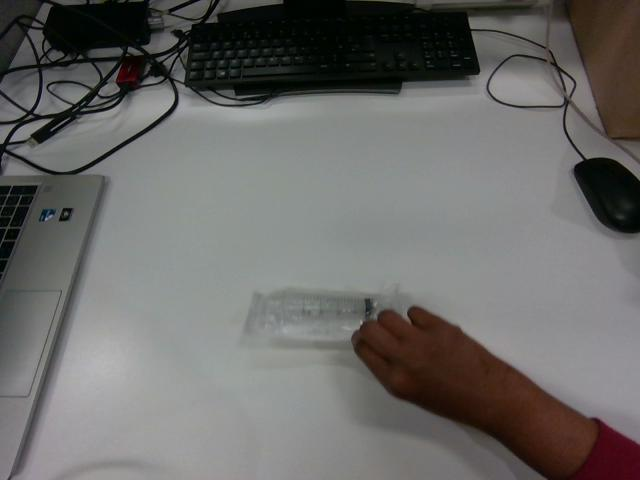syringe: (245, 289, 393, 341)
